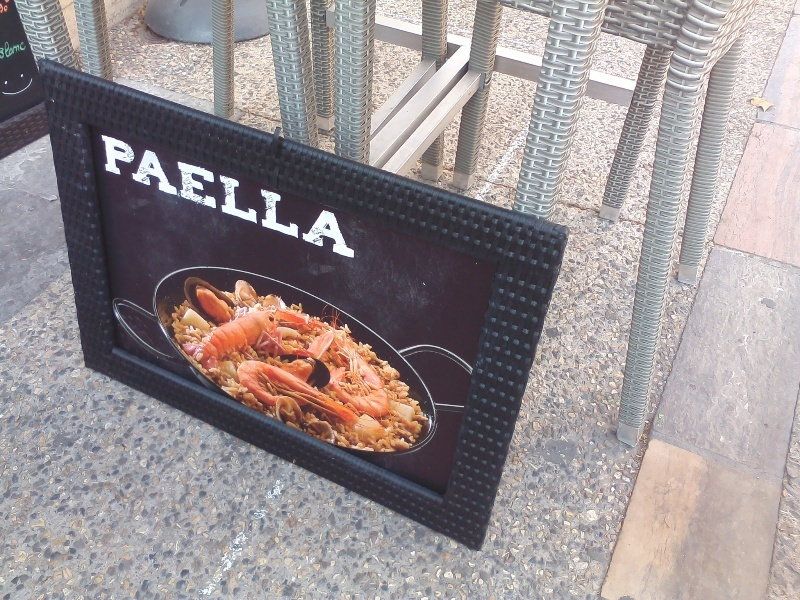text: (97, 132, 112, 261), (113, 132, 128, 261), (129, 132, 144, 261), (145, 132, 160, 261), (161, 132, 176, 261), (177, 132, 192, 261), (193, 132, 208, 261), (209, 132, 224, 261), (225, 132, 240, 261), (241, 132, 256, 261), (257, 132, 272, 261), (273, 132, 288, 261), (289, 132, 304, 261), (305, 132, 320, 261), (321, 132, 336, 261), (337, 132, 352, 261), (353, 132, 363, 261), (1, 37, 16, 60), (17, 37, 29, 60), (2, 3, 16, 15), (2, 47, 16, 58)
